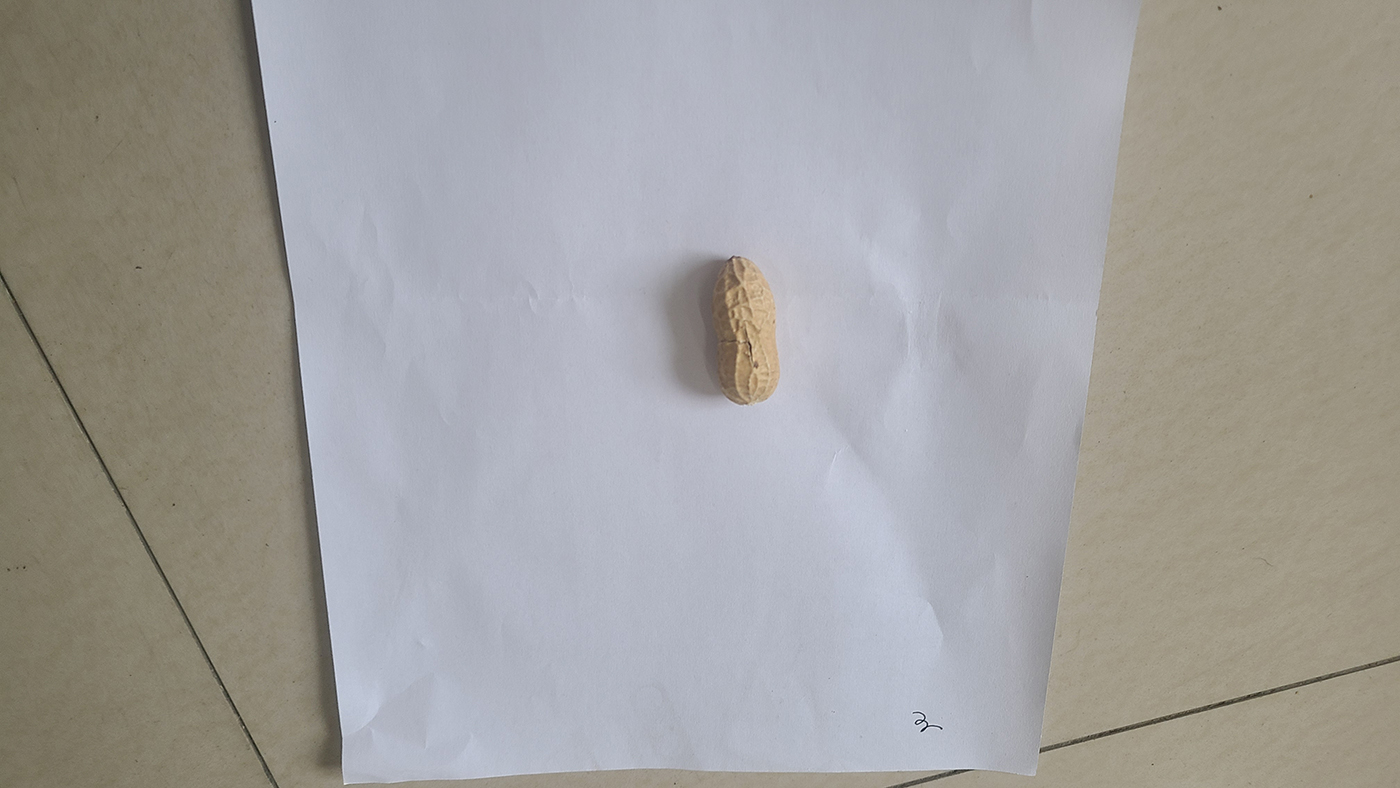h: (707, 252, 782, 408)
